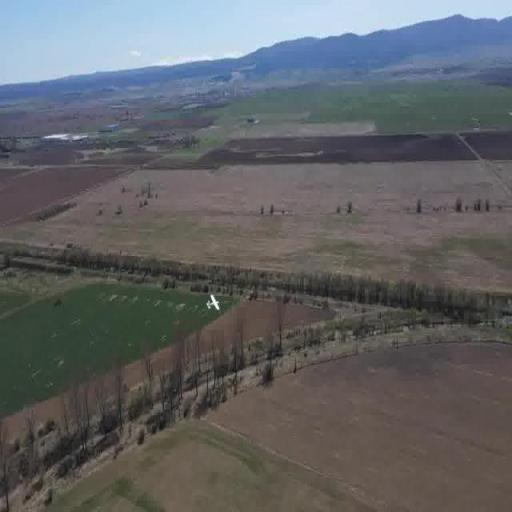uav: (203, 292, 223, 317)
